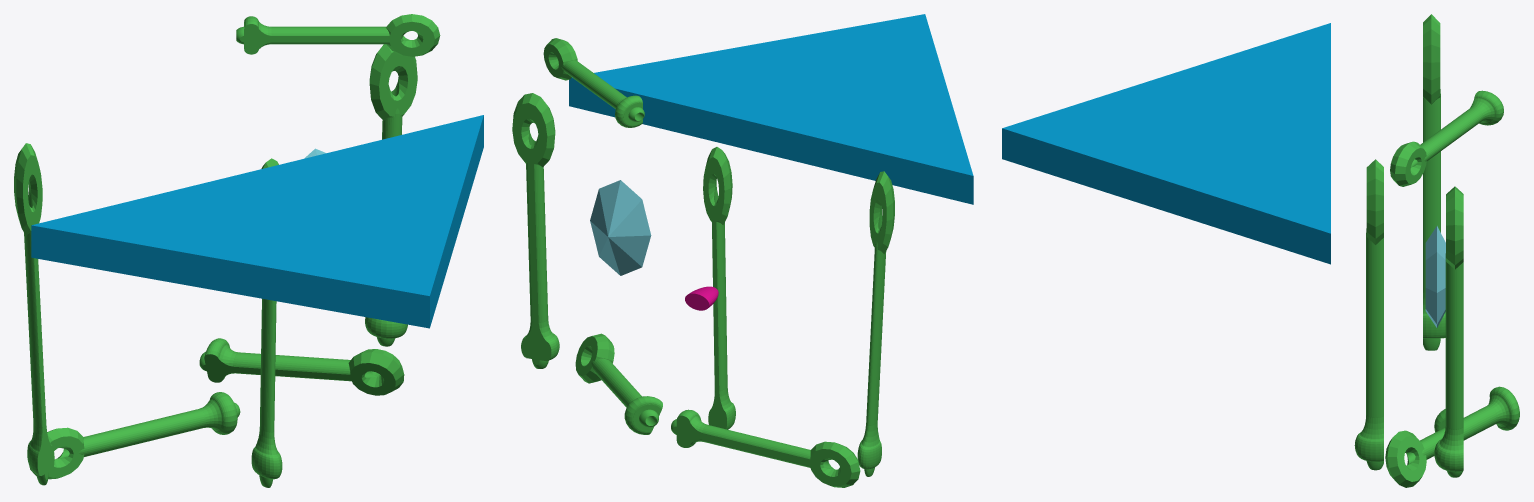
Rendered from tinker.obj.
3 views of the same model, side by side, from view 1: azimuth 30°, elevation 25°; view 2: azimuth 150°, elevation 25°; view 3: azimuth 270°, elevation 25° (orthographic). The views are drawn at different scales.
Visible parts, largest first — view 1: group_0_40919, group_0_4634441; view 2: group_0_40919, group_0_4634441, group_0_7720667, group_0_14093196; view 3: group_0_40919, group_0_4634441, group_0_7720667.
Boxes of the visible parts, x1,y1,x2,y2 form: group_0_40919: (31,115,483,328); group_0_4634441: (14,14,440,487); group_0_40919: (569,14,973,204); group_0_4634441: (512,38,894,487); group_0_7720667: (590,180,651,275); group_0_14093196: (685,286,718,310); group_0_40919: (1002,23,1330,264); group_0_4634441: (1354,14,1519,487); group_0_7720667: (1425,226,1445,327).
Size of the model in its own units: 132 by 117 by 137.
